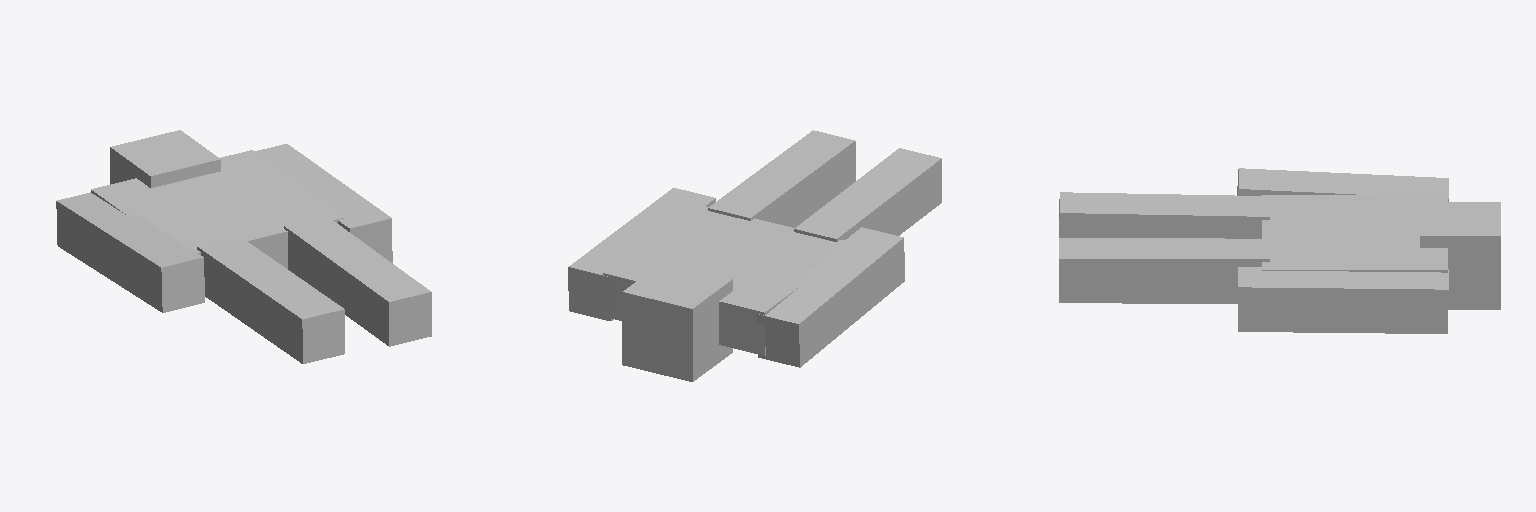
Rendered from zombie0059.obj.
3 renders of one model, left to right at view 1: azimuth 30°, elevation 25°; view 2: azimuth 150°, elevation 25°; view 3: azimuth 270°, elevation 25°, orthographic.
Parts seen in each view (by area): view 1: Cube, Cube.004, Cube.005, Cube.002, Cube.003, Cube.001; view 2: Cube, Cube.002, Cube.001, Cube.005, Cube.004, Cube.003; view 3: Cube.003, Cube, Cube.005, Cube.004, Cube.001, Cube.002.
Boxes of the visible parts, <box> form: Cube: <box>91,150,344,268</box>; Cube.004: <box>197,236,344,363</box>; Cube.005: <box>284,216,431,346</box>; Cube.002: <box>56,192,204,312</box>; Cube.003: <box>254,144,392,262</box>; Cube.001: <box>110,130,220,187</box>; Cube: <box>603,204,844,355</box>; Cube.002: <box>756,227,904,367</box>; Cube.001: <box>622,262,732,381</box>; Cube.005: <box>708,130,855,227</box>; Cube.004: <box>794,148,941,241</box>; Cube.003: <box>568,188,715,320</box>; Cube.003: <box>1238,267,1448,333</box>; Cube: <box>1262,191,1447,272</box>; Cube.005: <box>1059,238,1269,303</box>; Cube.004: <box>1059,192,1269,238</box>; Cube.001: <box>1420,202,1500,309</box>; Cube.002: <box>1237,168,1448,201</box>.
Size of the model in its own units: 2.86 by 0.8745 by 4.75.